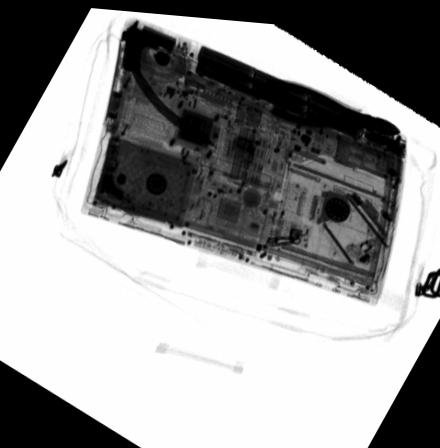Pliers: (270, 75, 402, 129)
